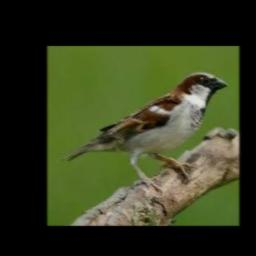Sparrow: (59, 72, 227, 194)
